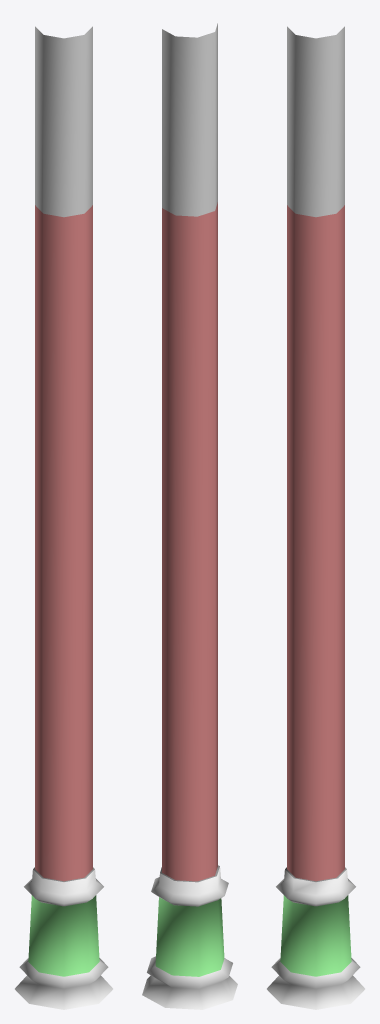
Rendered from sylentemple_pir.gltf.
3 renders of one model, left to right at view 1: azimuth 90°, elevation 25°; view 2: azimuth 150°, elevation 25°; view 3: azimuth 270°, elevation 25°, orthographic.
Visible parts, largest first — view 1: sylentemple_pir; view 2: sylentemple_pir; view 3: sylentemple_pir.
Part boxes in pixels (x1,y1,x2,y2): sylentemple_pir: (15,26,112,1009); sylentemple_pir: (142,23,237,1009); sylentemple_pir: (267,26,364,1009).
Bounding box in the file's own units: 0.9884 × 10.58 × 0.9884.
